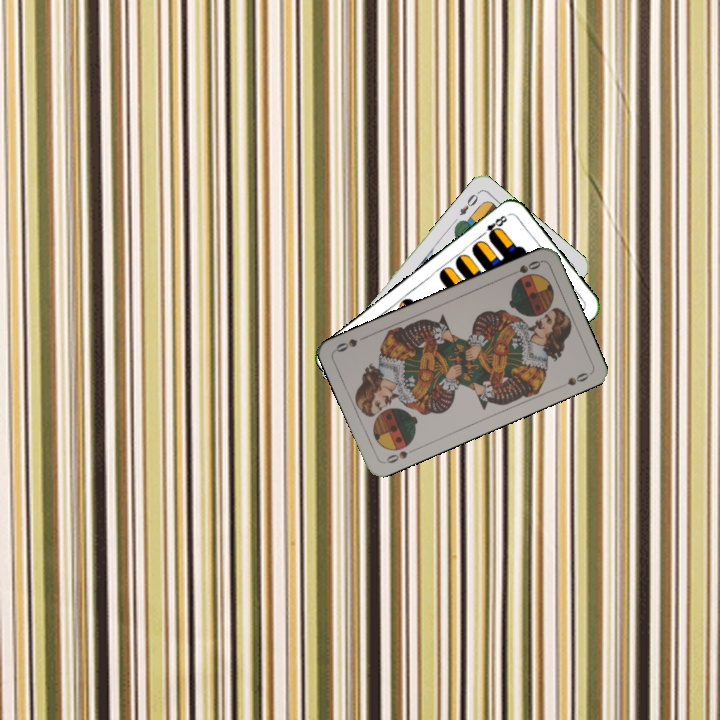E8: (476, 210, 511, 241)
EO: (455, 190, 481, 218)
SO: (505, 256, 544, 279), (380, 444, 419, 466)
